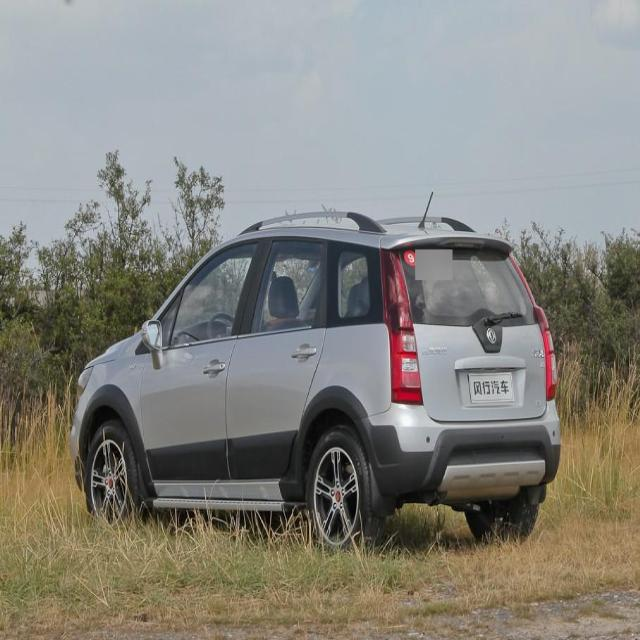back_glass: (401, 240, 537, 334)
back_left_side_light: (380, 243, 426, 410)
back_right_side_light: (506, 250, 563, 405)
door: (221, 234, 329, 490)
front_bumper: (64, 398, 98, 482)
front_left_side_door: (139, 231, 265, 493)
front_left_side_light: (72, 365, 96, 403)
front_left_side_mirror: (141, 314, 168, 363)
rear_bumper: (357, 398, 564, 498)
wheel: (305, 427, 372, 548), (87, 423, 143, 535)
